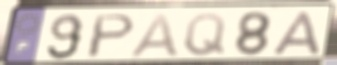8: (232, 9, 275, 58)
9: (45, 13, 85, 61)
A: (128, 12, 183, 59), (270, 10, 323, 56)
P: (84, 12, 139, 60)
Q: (182, 12, 228, 58)
